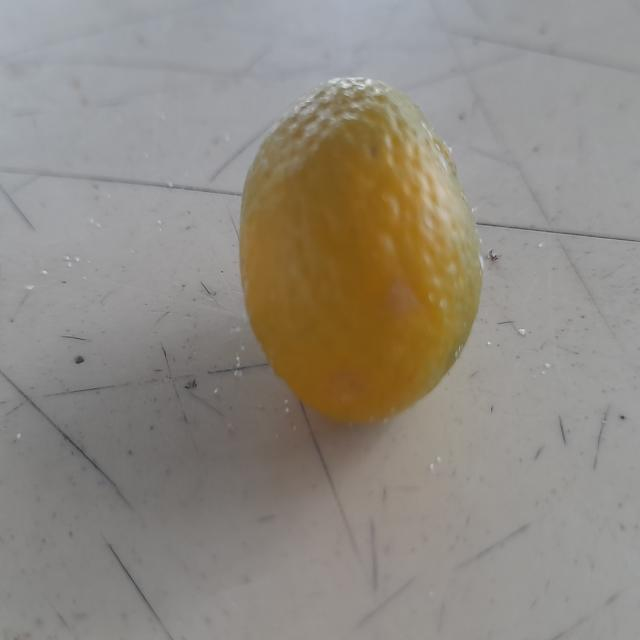greening: (229, 81, 488, 427)
